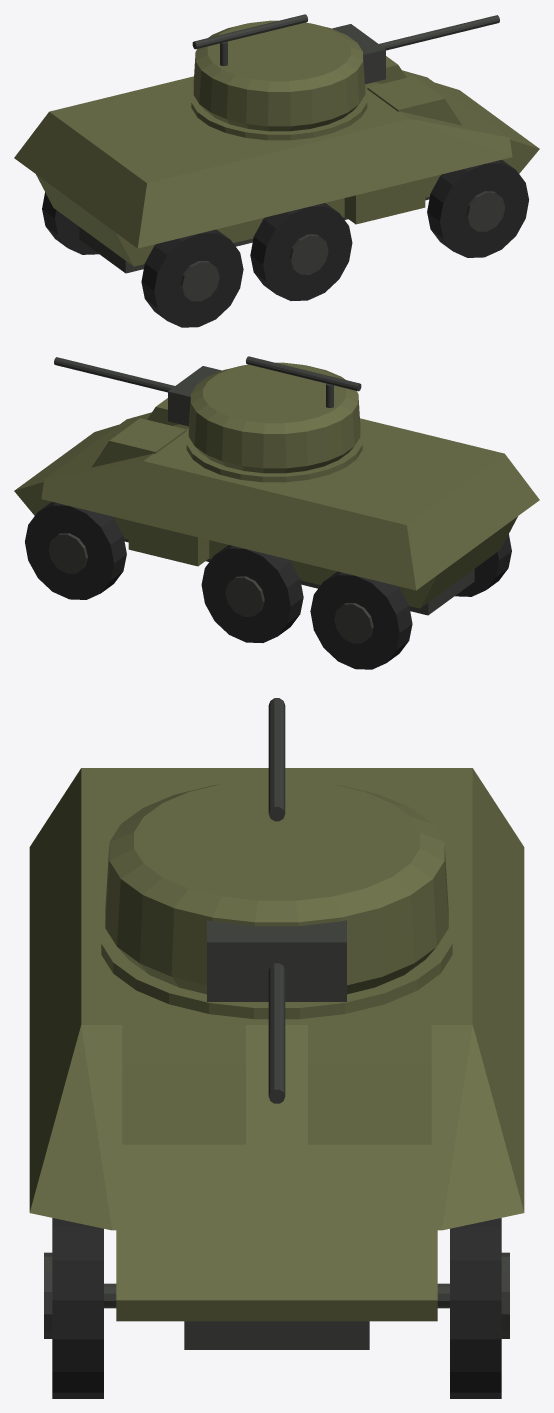
The model's file is us_m8_greyhound.obj.
3 views of the same model, one above another, from view 1: azimuth 30°, elevation 25°; view 2: azimuth 150°, elevation 25°; view 3: azimuth 270°, elevation 25° (orthographic). The views are drawn at different scales.
Bounding box in the file's own units: 4.75 × 2.48 × 2.4.
